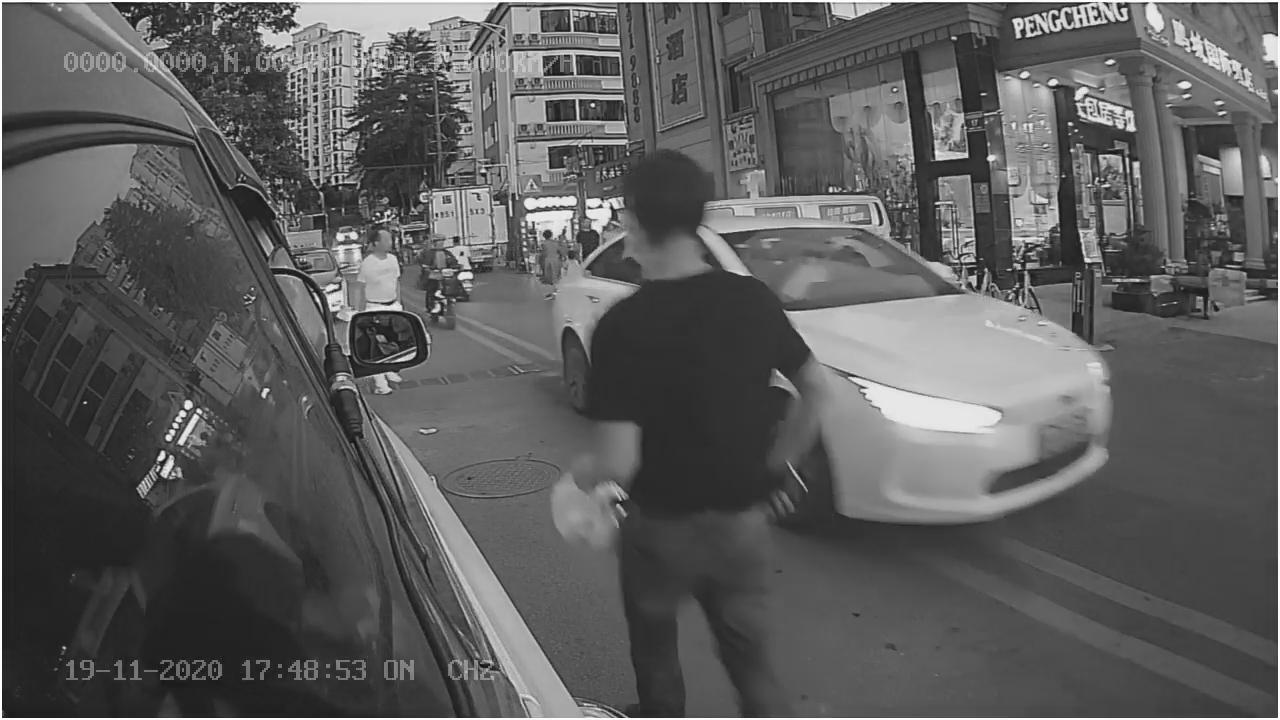person: (583, 152, 831, 632)
